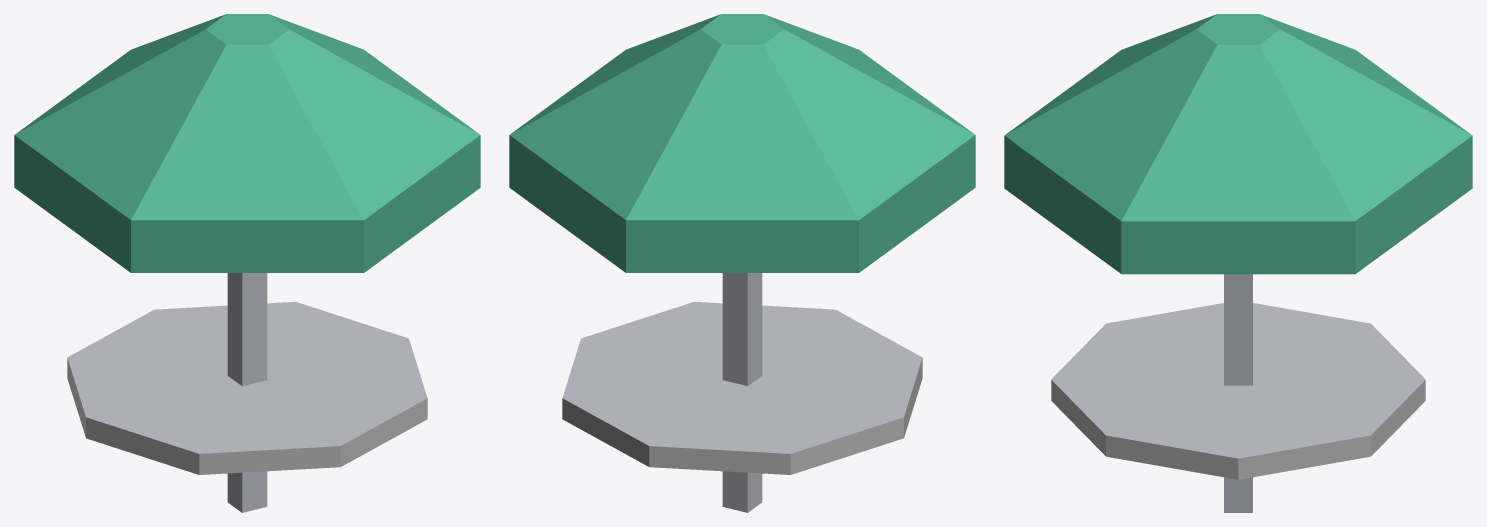
File: detail_umbrella.obj
3 renders of one model, left to right at view 1: azimuth 30°, elevation 25°; view 2: azimuth 150°, elevation 25°; view 3: azimuth 270°, elevation 25°, orthographic.
Parts seen in each view (by area): view 1: detail_umbrella; view 2: detail_umbrella; view 3: detail_umbrella.
Part boxes in pixels (box(x1,y1,x2,y2)): detail_umbrella: box(14, 14, 480, 512); detail_umbrella: box(509, 14, 975, 512); detail_umbrella: box(1004, 14, 1472, 512).
Bounding box in the file's own units: 0.3464 × 0.45 × 0.4.
